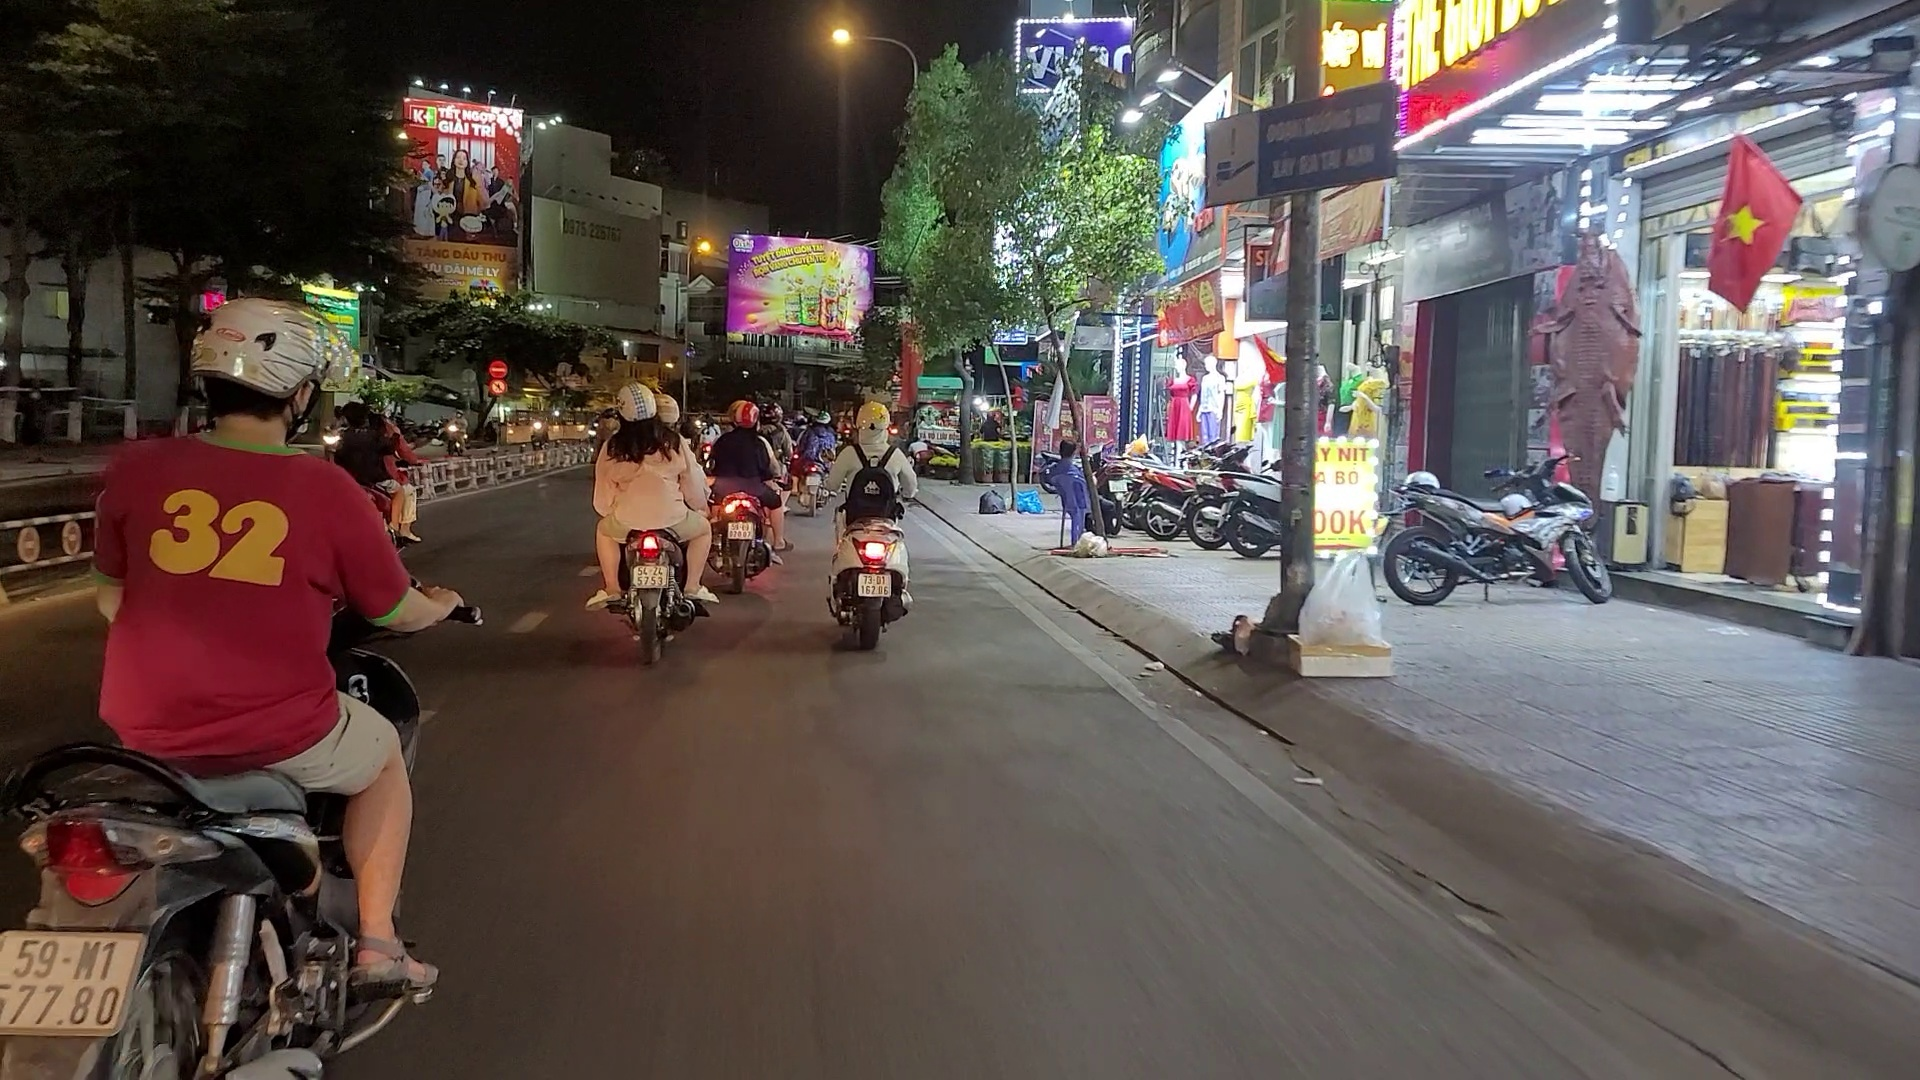Bien khac: (1199, 76, 1399, 223)
